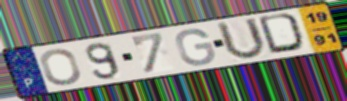7: (129, 31, 167, 76)
9: (84, 41, 121, 80)
D: (256, 11, 309, 56)
G: (173, 27, 218, 67)
O: (38, 47, 83, 87)
U: (214, 16, 269, 61)
